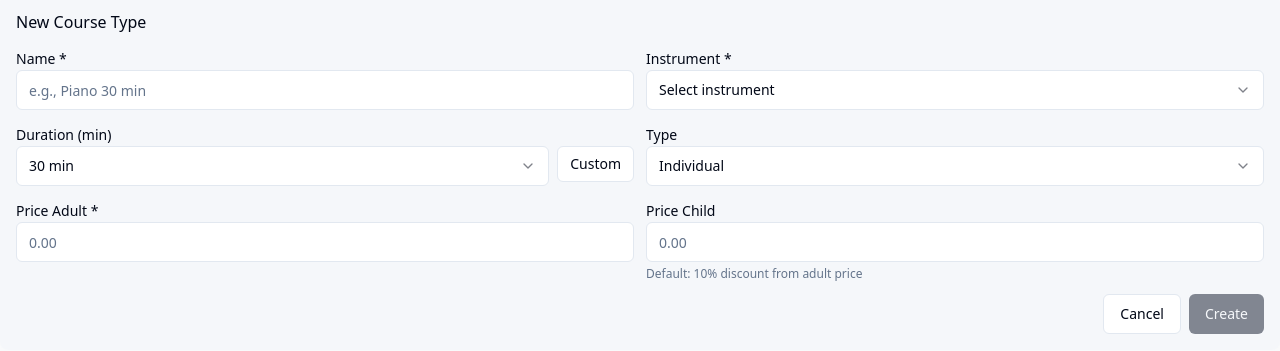
it: CourseTypeForm › rendering › renders instrument options
// Find the instrument select by placeholder text
Step 1. Click the dropdown "Select instrument" → (717, 90), box [646,70,1264,110]
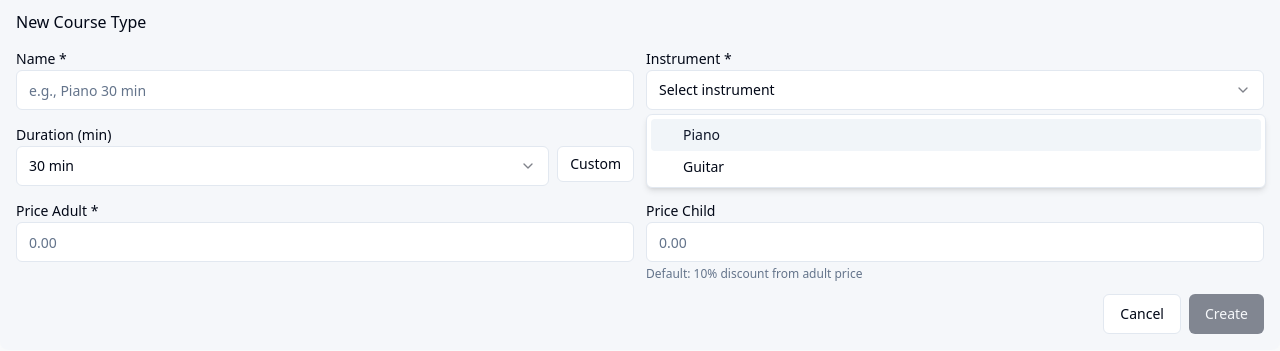
Expected: the text "Piano" is shown, [683,125,720,145]
Expected: the text "Guitar" is shown, [683,157,724,177]
